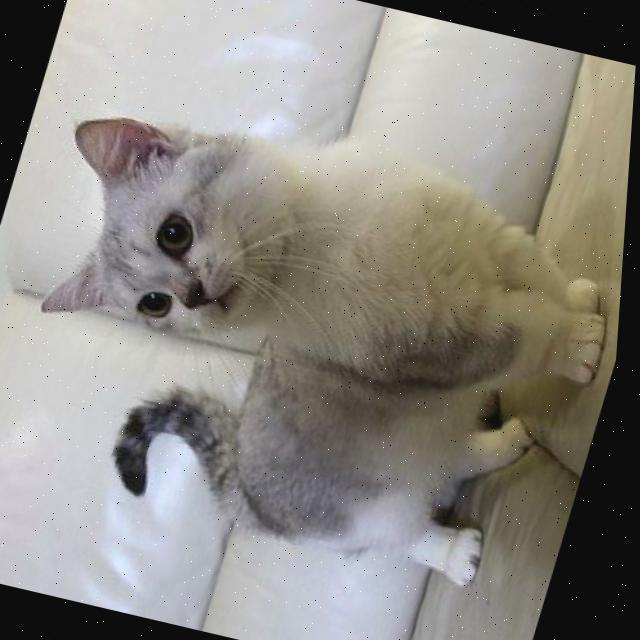Munchkin: (0, 72, 636, 608)
